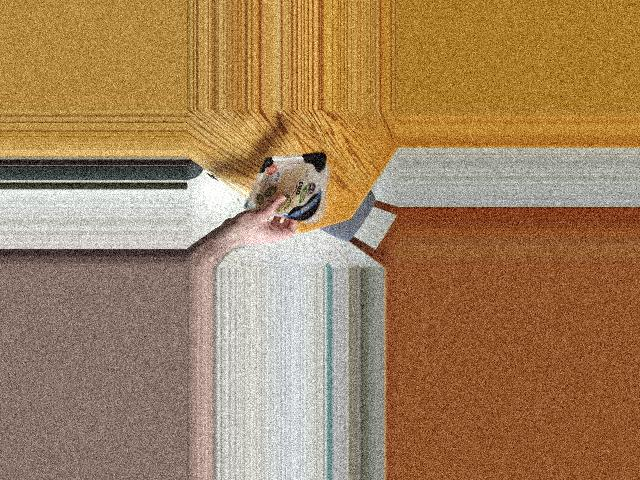cheese: (260, 156, 333, 224)
